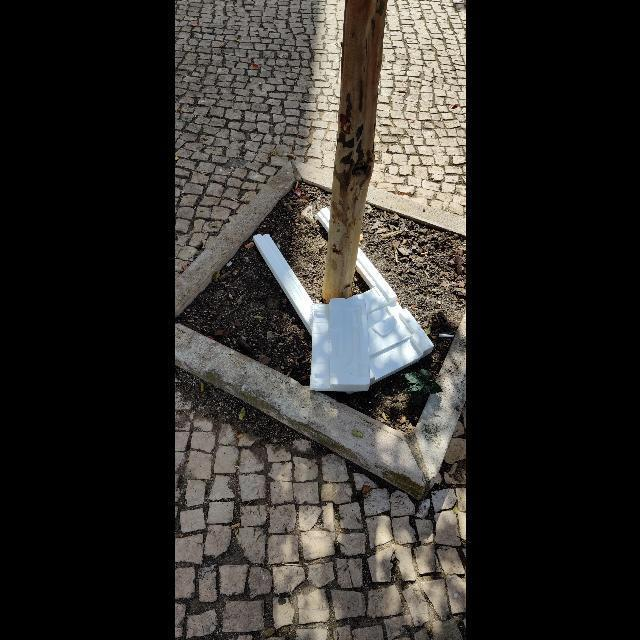Plastic: (252, 206, 433, 394), (308, 299, 369, 391)
